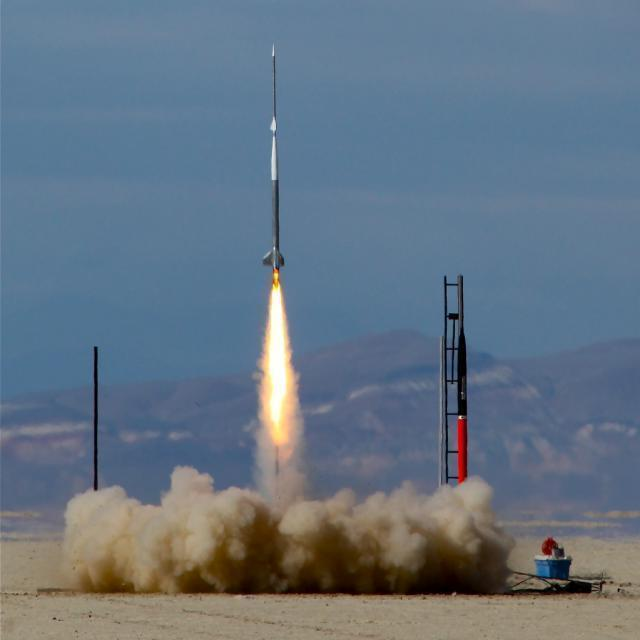missile: (262, 38, 288, 277)
